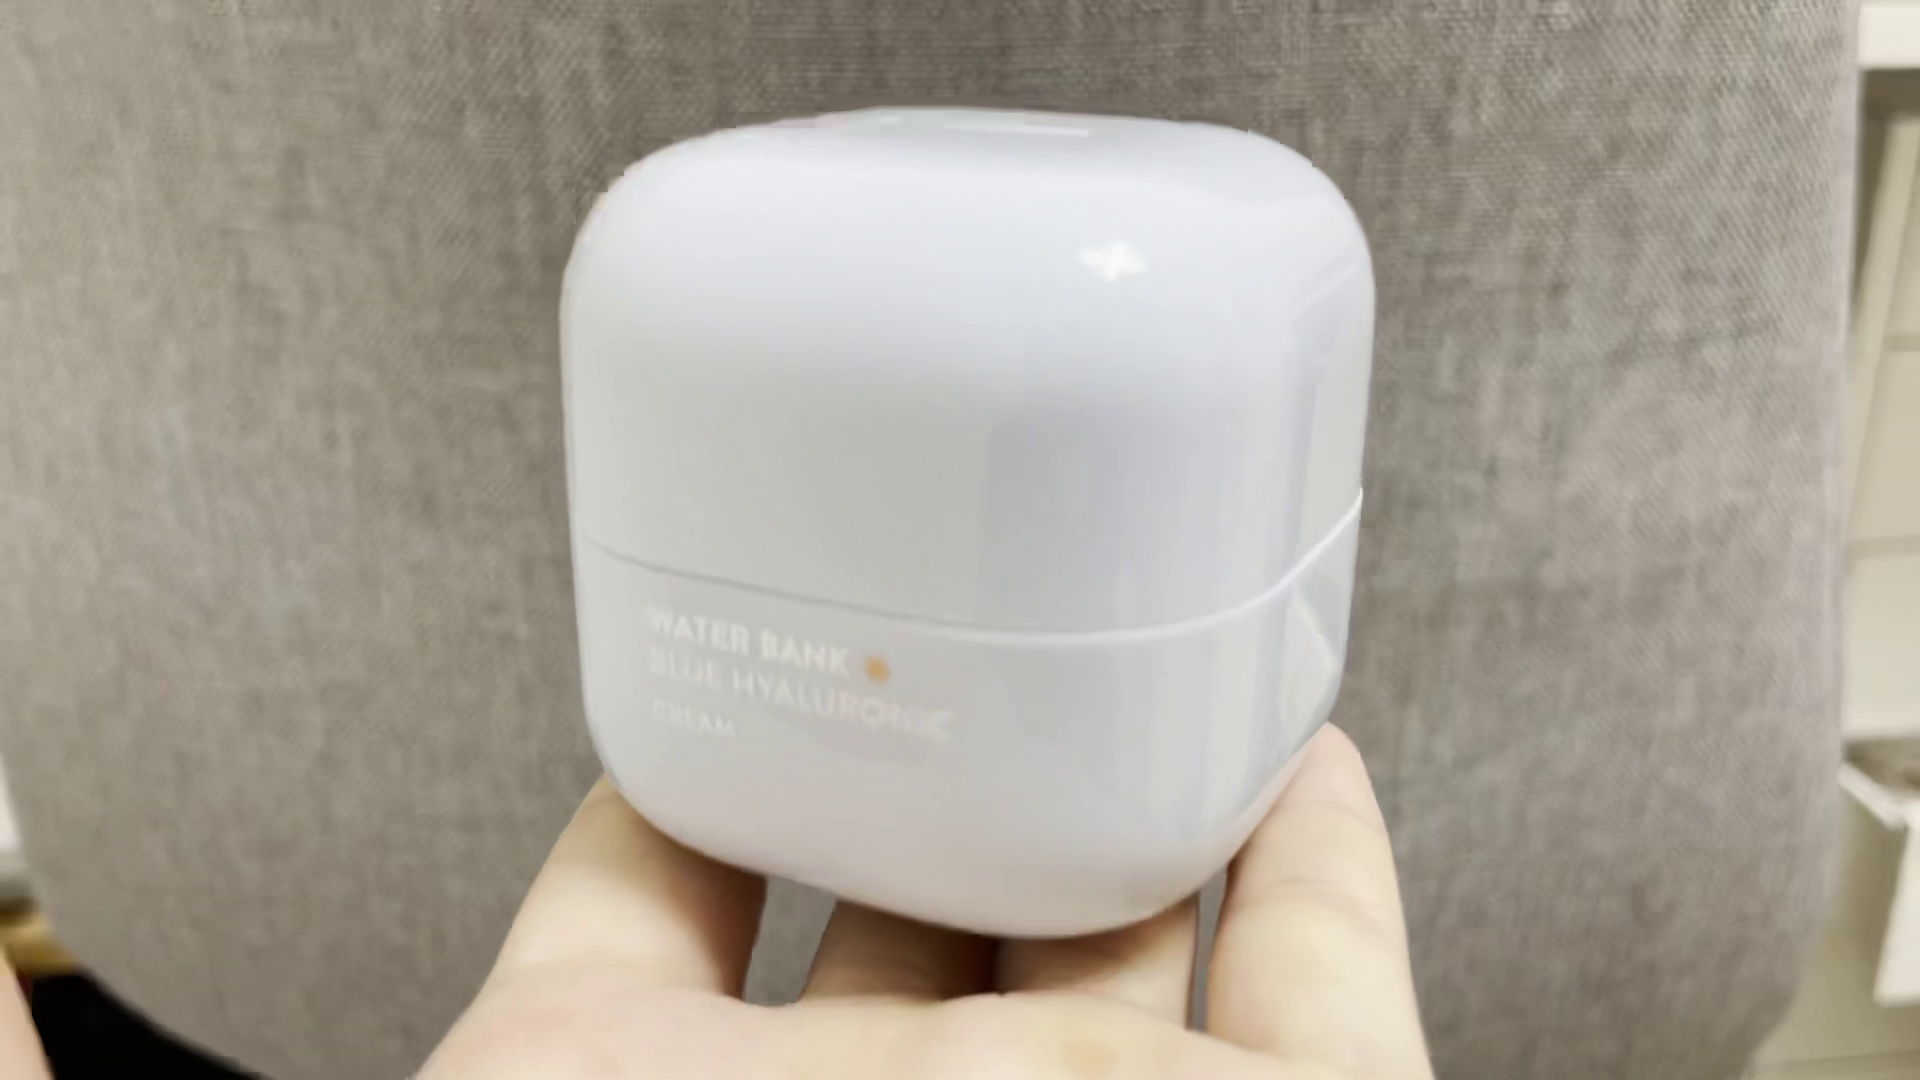cream: (556, 109, 1378, 936)
